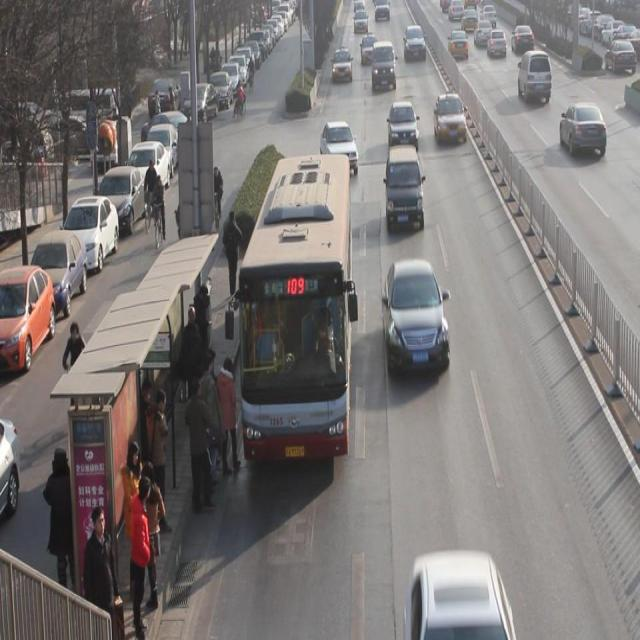car: (383, 259, 450, 372), (560, 101, 607, 157), (320, 120, 358, 174), (434, 89, 467, 143), (388, 101, 418, 147), (404, 24, 426, 61), (332, 46, 352, 83), (448, 27, 470, 59), (510, 24, 534, 53), (487, 28, 507, 57), (361, 31, 377, 65), (474, 18, 492, 47)
truck: (385, 146, 425, 229), (518, 48, 552, 104), (372, 40, 396, 89)
van: (237, 156, 351, 457)
